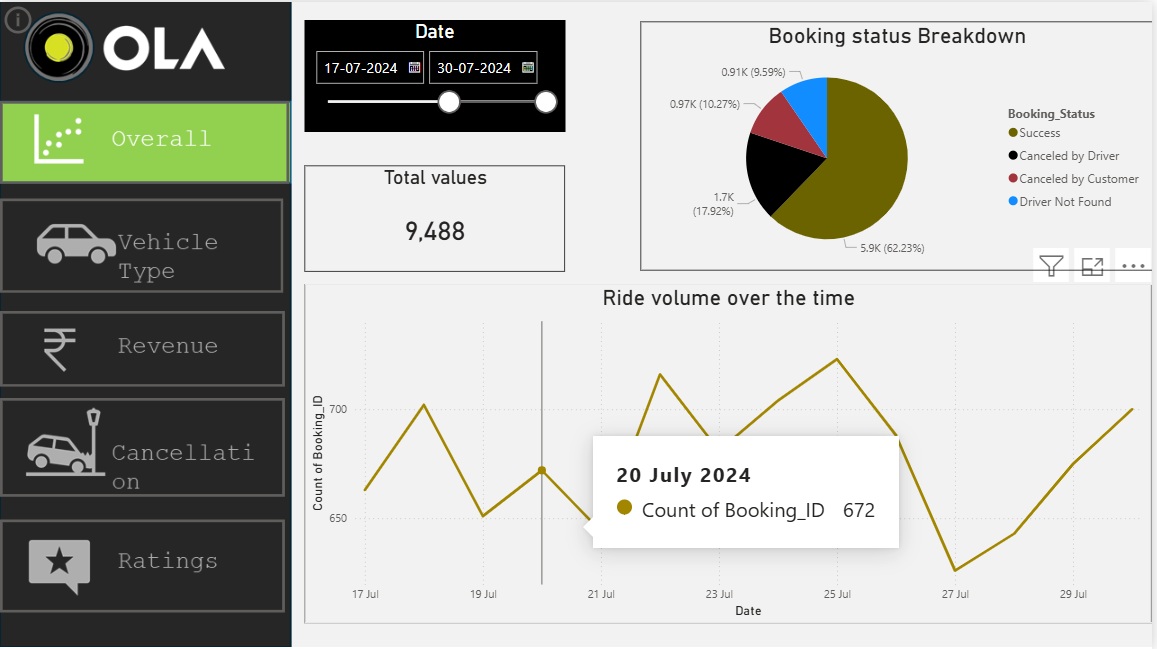

The page's visual inventory and layout, read from the dashboard file:
{"tool":"powerbi","page":{"name":"OVERALL","canvas":[1280,720],"ordinal":0},"visuals":[{"type":"actionButton","box":[0,343.6,316.5,84.3],"z":0},{"type":"actionButton","box":[0,440.6,316.5,109.8],"z":1000},{"type":"actionButton","box":[0,575.8,316.5,103.4],"z":2000},{"type":"lineChart","title":"Ride volume over the time","fields":{"Category":["July.Date"],"Y":["CountNonNull(July.Booking_ID)"]},"box":[338.8,313.4,941.6,377],"z":3000},{"type":"pieChart","title":"Booking status Breakdown","fields":{"Y":["CountNonNull(July.Booking_ID)"],"Category":["July.Booking_Status"]},"box":[711,22.3,569.4,276.8],"z":4000},{"type":"slicer","title":"Date","fields":{"Values":["July.Date"]},"box":[338.8,20.7,289.5,124.1],"z":5000},{"type":"card","title":"Total values","fields":{"Values":["CountNonNull(July.Booking_ID)"]},"box":[338.8,181.3,289.5,117.7],"z":6000},{"type":"actionButton","box":[916.2,588.5,316.5,90.7],"z":7000},{"type":"actionButton","box":[0,217.9,314.9,105],"z":8000},{"type":"actionButton","box":[0,0,100,40],"z":9000},{"type":"actionButton","box":[0,109.8,321.3,92.3],"z":10000}]}

Visuals, with their boxes in screenshot pixels (x1, y1, x2, y2), scaled from the page's 1280x720 canvas onto the 1157x649 screenshot:
actionButton: (0,310,286,386)
actionButton: (0,397,286,496)
actionButton: (0,519,286,612)
"Ride volume over the time" lineChart: (306,282,1156,622)
"Booking status Breakdown" pieChart: (643,20,1156,270)
"Date" slicer: (306,19,568,131)
"Total values" card: (306,163,568,270)
actionButton: (828,530,1114,612)
actionButton: (0,196,285,291)
actionButton: (0,0,90,36)
actionButton: (0,99,290,182)
